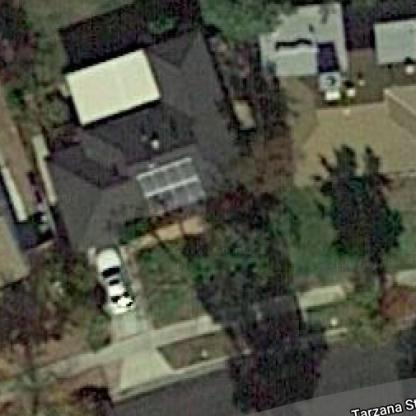car: (91, 238, 134, 317)
solar_panel: (137, 155, 210, 221)
